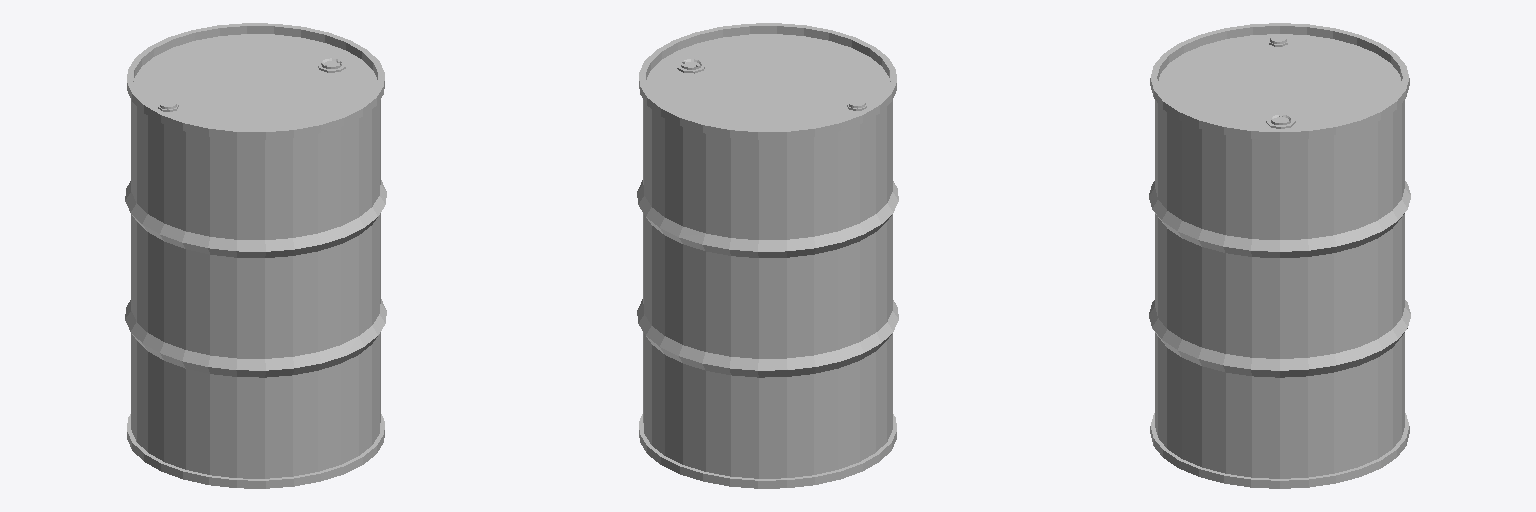
File: barrel.obj
3 renders of one model, left to right at view 1: azimuth 30°, elevation 25°; view 2: azimuth 150°, elevation 25°; view 3: azimuth 270°, elevation 25°, orthographic.
Parts seen in each view (by area): view 1: barrel; view 2: barrel; view 3: barrel.
Boxes of the visible parts, box(x1,y1,x2,y2) form: barrel: box(125, 23, 386, 488); barrel: box(637, 23, 898, 488); barrel: box(1149, 23, 1410, 488).
Size of the model in its own units: 0.6202 by 0.9288 by 0.6202.